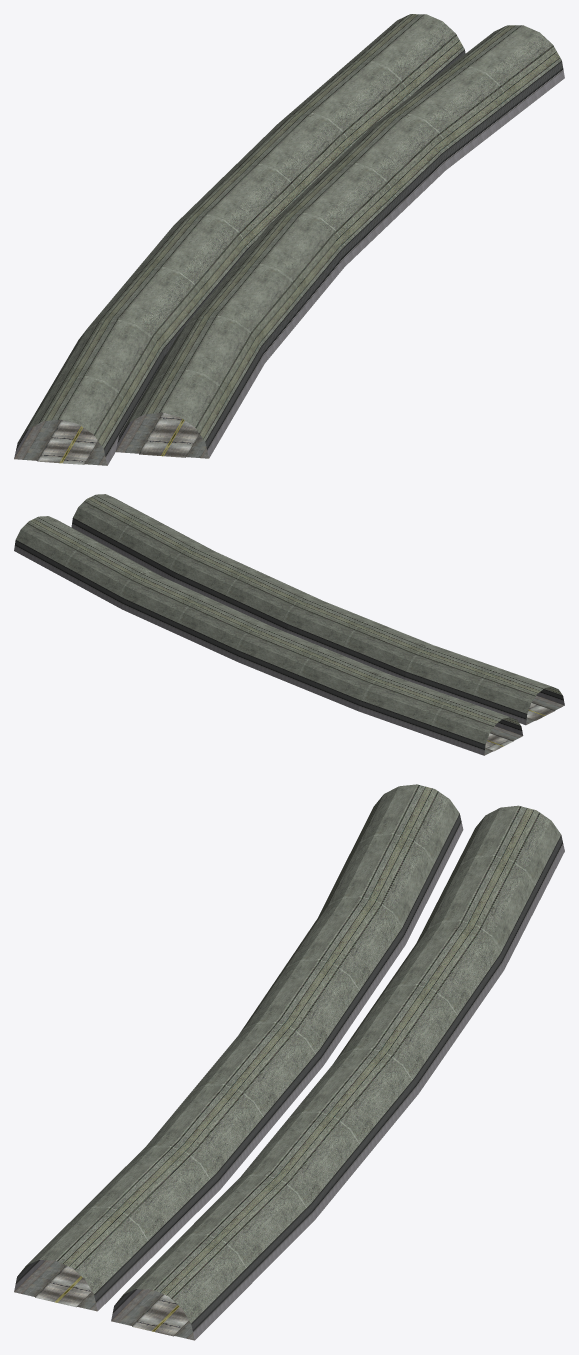
File: tcelawcuntunb.obj
The picture shows the model from 3 angles, top to bottom: view 1: azimuth 90°, elevation 25°; view 2: azimuth 150°, elevation 25°; view 3: azimuth 270°, elevation 25°; orthographic projection. The views are drawn at different scales.
Visible parts, largest first — view 1: TCElawcuntunb; view 2: TCElawcuntunb; view 3: TCElawcuntunb.
Part boxes in pixels (x1=…): TCElawcuntunb: x1=14, y1=14, x2=564, y2=465; TCElawcuntunb: x1=14, y1=494, x2=564, y2=755; TCElawcuntunb: x1=14, y1=784, x2=564, y2=1340.
Size of the model in its own units: 232 by 22.51 by 116.
Materials: 5 (5 with a texture image).
